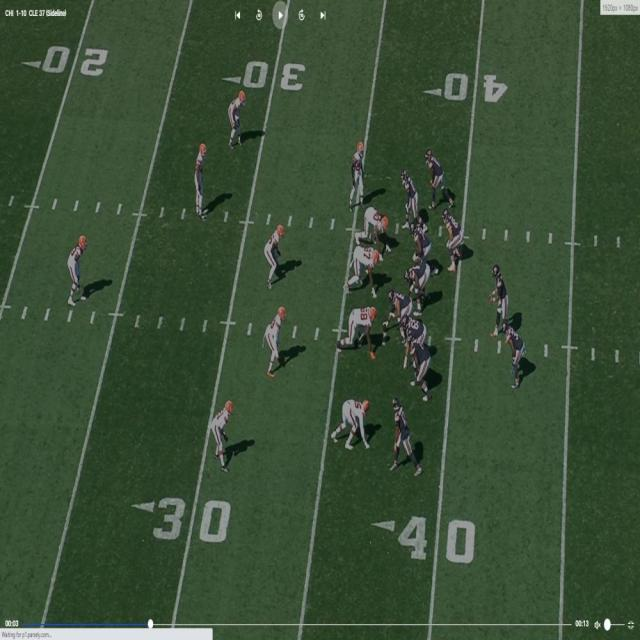center: (387, 287, 410, 336)
db: (213, 399, 234, 469), (70, 234, 87, 304), (228, 90, 244, 145), (198, 142, 209, 221), (355, 140, 366, 207)
lb: (266, 223, 286, 290), (268, 305, 286, 376)
qb: (494, 264, 510, 338)
skill: (393, 397, 418, 470), (504, 324, 526, 394), (426, 146, 451, 202), (442, 208, 459, 268), (401, 168, 422, 212)
